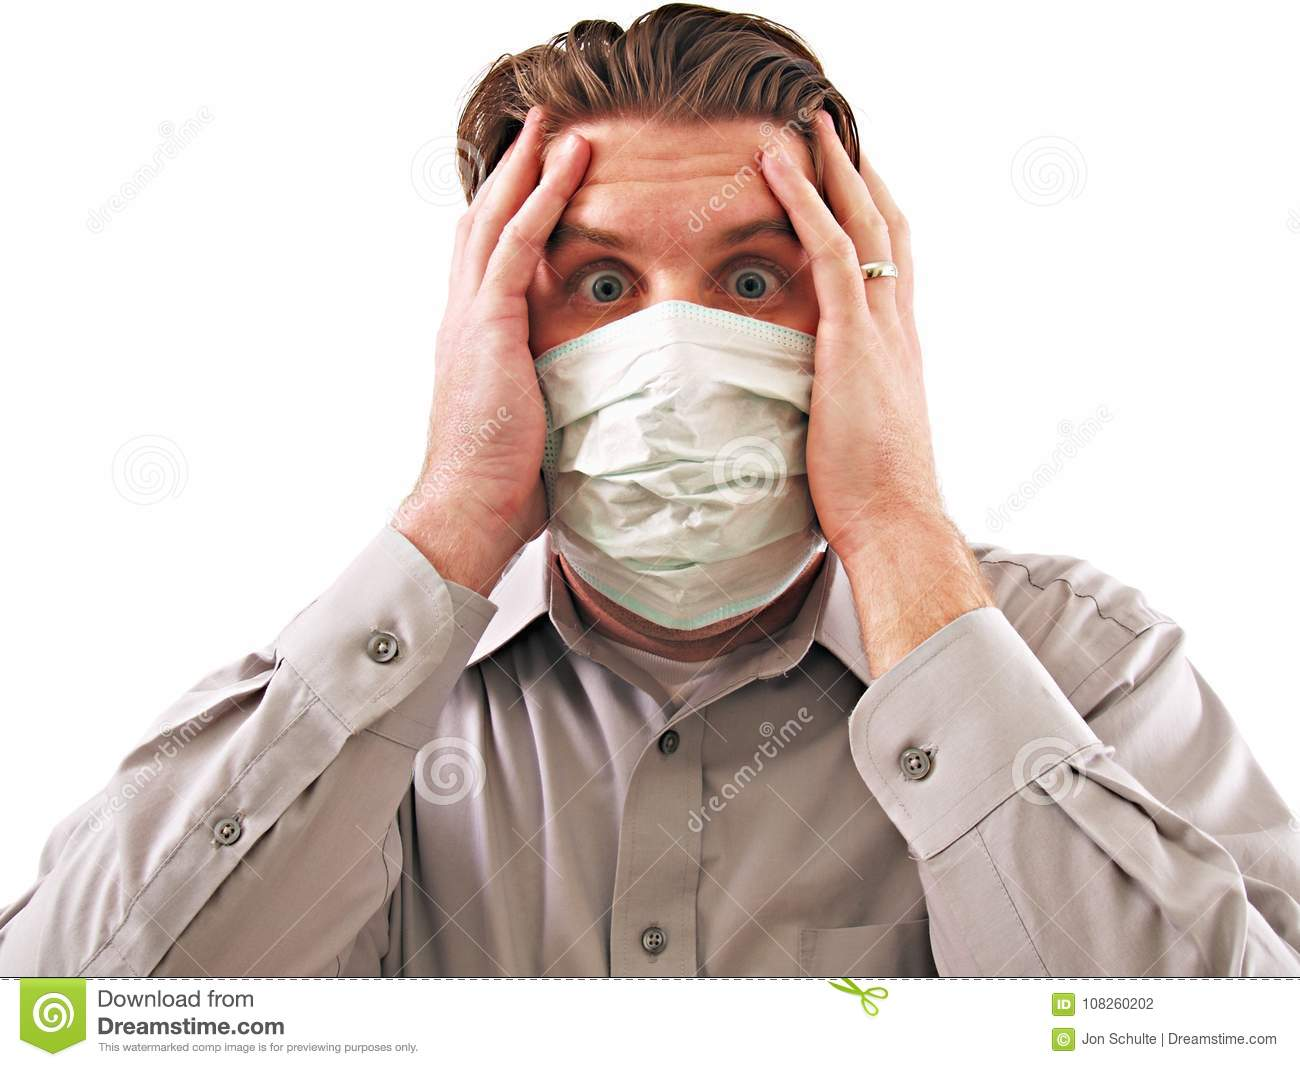mask: (533, 301, 840, 627)
